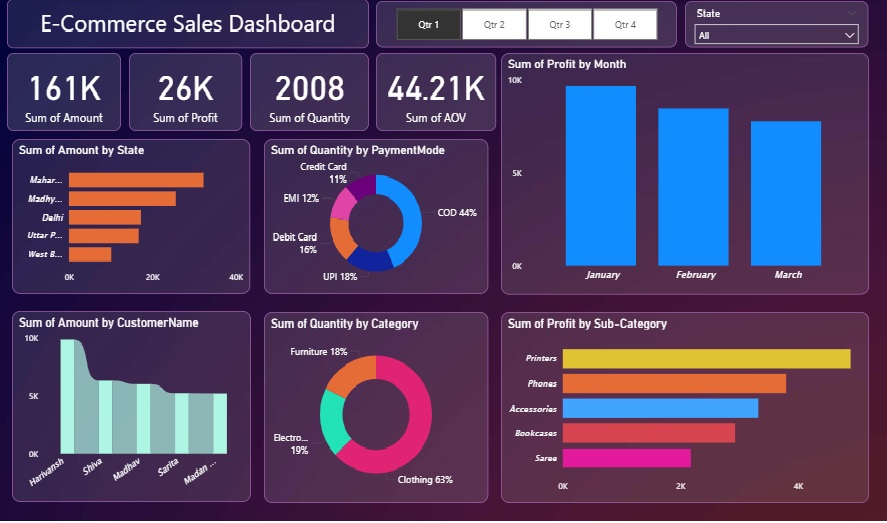

Layout of this report page (visuals, bound fields, positions):
{"tool":"powerbi","page":{"name":"Page 1","canvas":[1280,720],"ordinal":0},"visuals":[{"type":"textbox","box":[10.1,0,521.3,67.7],"z":0},{"type":"clusteredColumnChart","fields":{"Category":["Orders.Order Date.Variation.Date Hierarchy.Month"],"Y":["Sum(Details.Profit)"]},"box":[721.3,72.8,529.9,331.9],"z":1},{"type":"barChart","fields":{"Category":["Details.Sub-Category"],"Y":["Sum(Details.Profit)"]},"box":[721.4,429.1,529.9,262.1],"z":2},{"type":"donutChart","fields":{"Category":["Details.Category"],"Y":["Sum(Details.Quantity)"]},"box":[380.2,429.1,322.6,262.1],"z":3},{"type":"donutChart","fields":{"Y":["Sum(Details.Quantity)"],"Category":["Details.PaymentMode"]},"box":[380.2,191.5,322.6,213.1],"z":4},{"type":"card","fields":{"Values":["Sum(Details.Amount)"]},"box":[10.1,73.4,164.2,108],"z":5},{"type":"card","fields":{"Values":["Sum(Details.Profit)"]},"box":[185.8,73.4,162.7,108],"z":6},{"type":"card","fields":{"Values":["Sum(Details.Quantity)"]},"box":[360,73.4,171.4,108],"z":7},{"type":"card","fields":{"Values":["Sum(Details.AOV)"]},"box":[541.4,73.4,172.8,108],"z":8},{"type":"barChart","fields":{"Category":["Orders.State"],"Y":["Sum(Details.Amount)"]},"box":[17.3,191.5,342.7,213.1],"z":9},{"type":"ribbonChart","fields":{"Category":["Orders.CustomerName"],"Y":["Sum(Details.Amount)"]},"box":[16.9,428.4,343.7,262.4],"z":10},{"type":"slicer","fields":{"Values":["Orders.Order Date.Variation.Date Hierarchy.Quarter"]},"box":[541.8,3.4,433.4,64.3],"z":11},{"type":"slicer","fields":{"Values":["Orders.State"]},"box":[987.1,3.4,264.1,64.3],"z":12}]}

Visuals, with their boxes on the page's 1280x720 design canvas (x1, y1, x2, y2). These are canvas units, not pixel positions in the 887x523 screenshot, which may show the page scaled, cropped or inside an application window:
textbox: bbox(10, 0, 531, 68)
clusteredColumnChart - Orders.Order Date.Variation.Date Hierarchy.Month x Sum(Details.Profit): bbox(721, 73, 1251, 405)
barChart - Details.Sub-Category x Sum(Details.Profit): bbox(721, 429, 1251, 691)
donutChart - Details.Category x Sum(Details.Quantity): bbox(380, 429, 703, 691)
donutChart - Sum(Details.Quantity) x Details.PaymentMode: bbox(380, 192, 703, 405)
card - Sum(Details.Amount): bbox(10, 73, 174, 181)
card - Sum(Details.Profit): bbox(186, 73, 348, 181)
card - Sum(Details.Quantity): bbox(360, 73, 531, 181)
card - Sum(Details.AOV): bbox(541, 73, 714, 181)
barChart - Orders.State x Sum(Details.Amount): bbox(17, 192, 360, 405)
ribbonChart - Orders.CustomerName x Sum(Details.Amount): bbox(17, 428, 361, 691)
slicer - Orders.Order Date.Variation.Date Hierarchy.Quarter: bbox(542, 3, 975, 68)
slicer - Orders.State: bbox(987, 3, 1251, 68)
